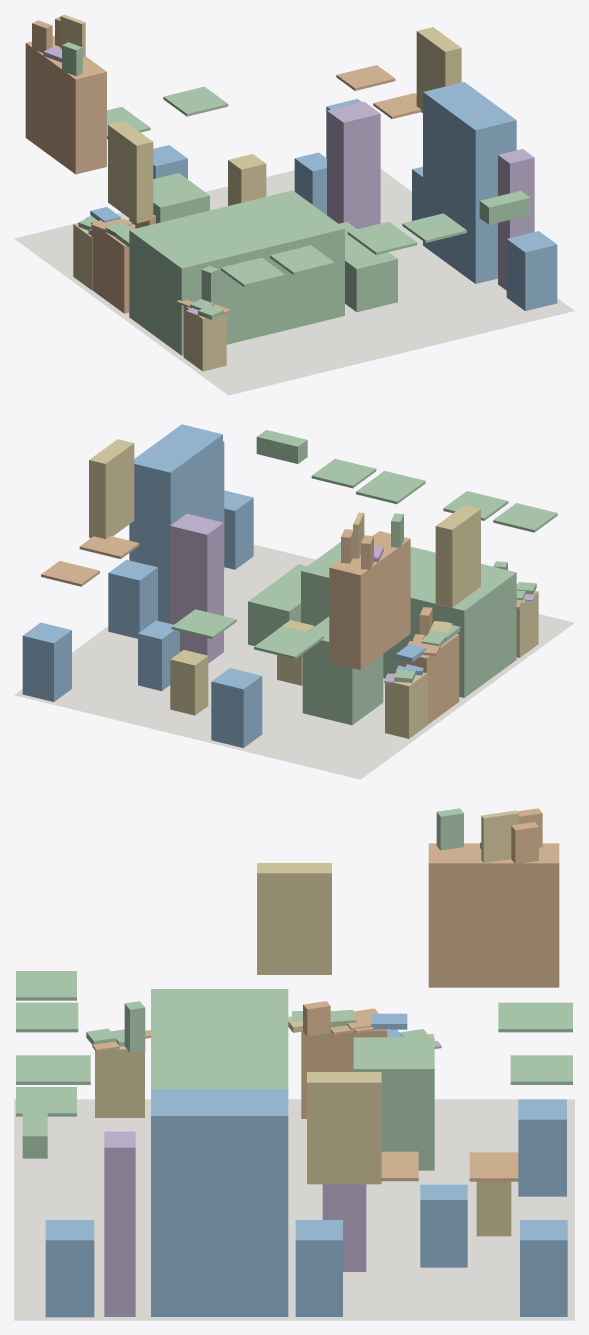
File: layout.glb
3 views of the same model, one above another, from view 1: azimuth 30°, elevation 25°; view 2: azimuth 150°, elevation 25°; view 3: azimuth 270°, elevation 25° (orthographic). The views are drawn at different scales.
Visible parts, largest first — view 1: room_extent_proxy, obj_0000, obj_0004, obj_0035, obj_0015, obj_0042, obj_0012, obj_0006, obj_0009, obj_0003, obj_0043, obj_0001 (+19 smaller); view 2: room_extent_proxy, obj_0000, obj_0004, obj_0035, obj_0015, obj_0005, obj_0042, obj_0043, obj_0011, obj_0014, obj_0013, obj_0006 (+16 smaller); view 3: room_extent_proxy, obj_0004, obj_0035, obj_0000, obj_0043, obj_0042, obj_0005, obj_0009, obj_0012, obj_0011, obj_0013, obj_0014 (+19 smaller).
Part boxes in pixels (bbox=[...]): room_extent_proxy: bbox=[14, 169, 574, 395]; obj_0000: bbox=[129, 190, 344, 355]; obj_0004: bbox=[423, 82, 516, 283]; obj_0035: bbox=[25, 36, 106, 174]; obj_0015: bbox=[327, 101, 380, 228]; obj_0042: bbox=[108, 121, 153, 223]; obj_0012: bbox=[506, 231, 557, 310]; obj_0006: bbox=[339, 222, 397, 312]; obj_0009: bbox=[498, 149, 534, 290]; obj_0003: bbox=[91, 221, 129, 313]; obj_0043: bbox=[416, 27, 461, 112]; obj_0001: bbox=[183, 304, 226, 371]; room_extent_proxy: bbox=[14, 544, 574, 779]; obj_0000: bbox=[301, 542, 516, 697]; obj_0004: bbox=[129, 424, 222, 623]; obj_0035: bbox=[329, 531, 410, 670]; obj_0015: bbox=[170, 513, 223, 663]; obj_0005: bbox=[302, 616, 383, 725]; obj_0042: bbox=[435, 505, 480, 607]; obj_0043: bbox=[89, 439, 134, 538]; obj_0011: bbox=[211, 668, 262, 747]; obj_0014: bbox=[22, 622, 71, 701]; obj_0013: bbox=[108, 559, 157, 638]; obj_0006: bbox=[248, 564, 307, 646]; room_extent_proxy: bbox=[14, 1099, 574, 1320]; obj_0004: bbox=[151, 1089, 288, 1316]; obj_0035: bbox=[428, 843, 559, 987]; obj_0000: bbox=[151, 989, 288, 1089]; obj_0043: bbox=[307, 1072, 381, 1184]; obj_0042: bbox=[257, 863, 331, 974]; obj_0005: bbox=[353, 1037, 434, 1170]; obj_0009: bbox=[104, 1131, 135, 1316]; obj_0012: bbox=[45, 1220, 94, 1317]; obj_0011: bbox=[518, 1099, 566, 1196]; obj_0013: bbox=[295, 1220, 342, 1316]; obj_0014: bbox=[520, 1220, 567, 1316].
Bounding box in the file's own units: 4.2 × 2.69 × 4.5.
